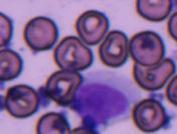L: (70, 75, 131, 126)
